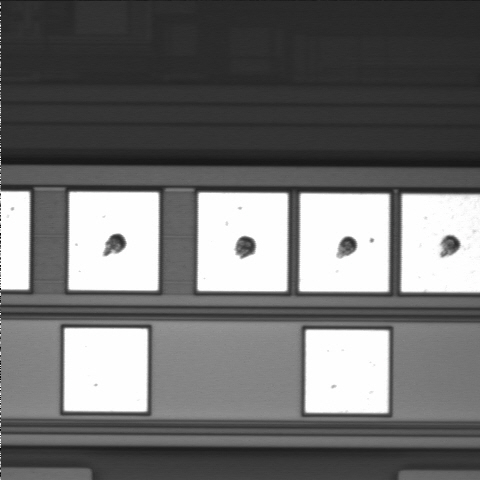pad: (69, 192, 159, 291), (299, 193, 389, 292), (198, 193, 288, 291), (64, 328, 148, 412), (305, 330, 389, 413)
